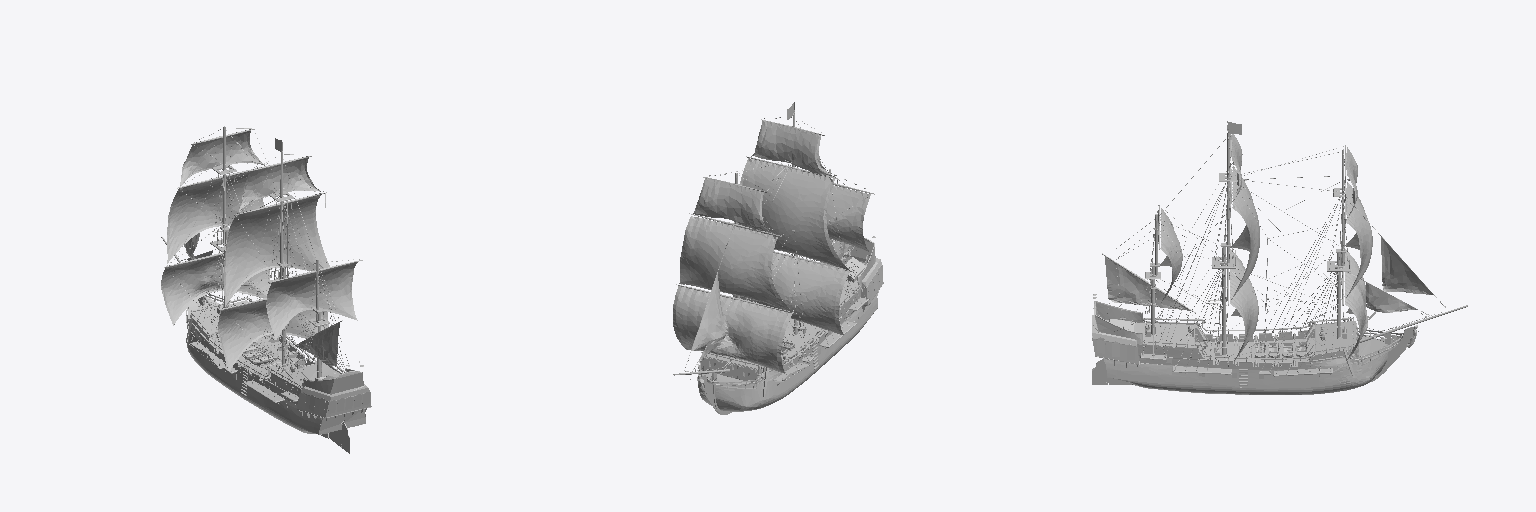
File: BlackPearl.obj
3 renders of one model, left to right at view 1: azimuth 30°, elevation 25°; view 2: azimuth 150°, elevation 25°; view 3: azimuth 270°, elevation 25°, orthographic.
Size of the model in its own units: 170 by 364 by 459.